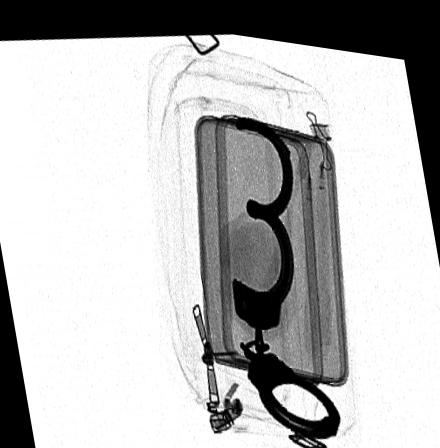HandCuffs: (231, 107, 341, 428)
